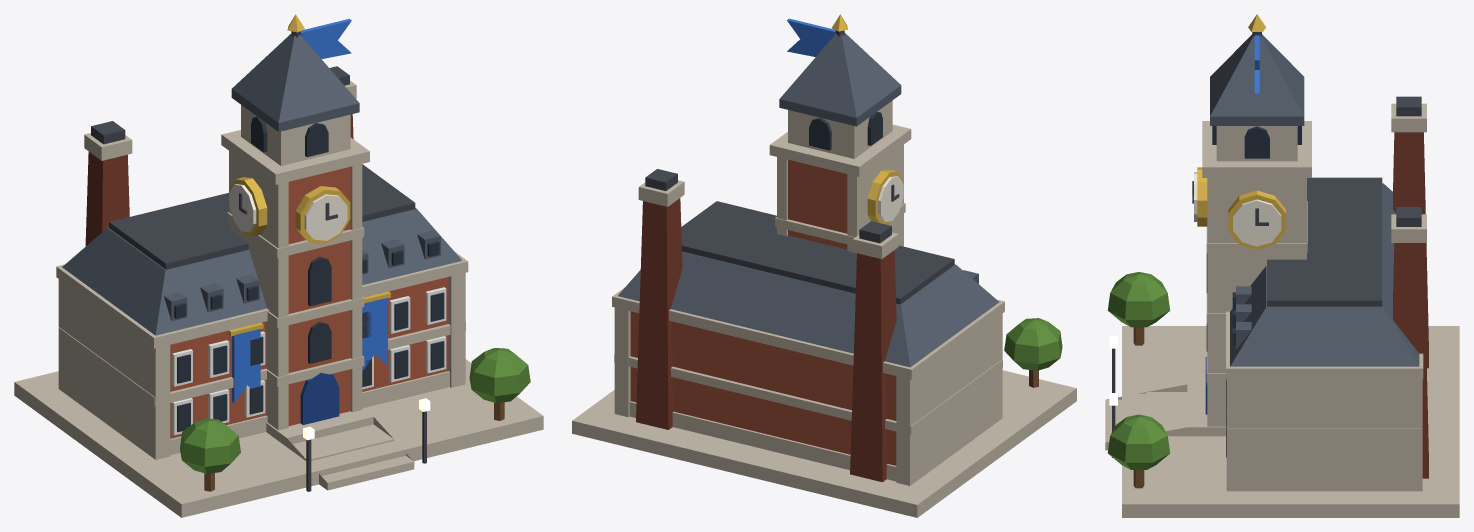
The model's file is city_center_4.glb.
The picture shows the model from 3 angles, left to right: view 1: azimuth 30°, elevation 25°; view 2: azimuth 150°, elevation 25°; view 3: azimuth 270°, elevation 25°; orthographic projection. The views are drawn at different scales.
Parts seen in each view (by area): view 1: city_center_4; view 2: city_center_4; view 3: city_center_4.
Part boxes in pixels (x1,y1,x2,y2): city_center_4: (14, 14, 543, 517); city_center_4: (572, 14, 1076, 517); city_center_4: (1105, 14, 1459, 517).
Size of the model in its own units: 0.5 by 0.5422 by 0.42.
